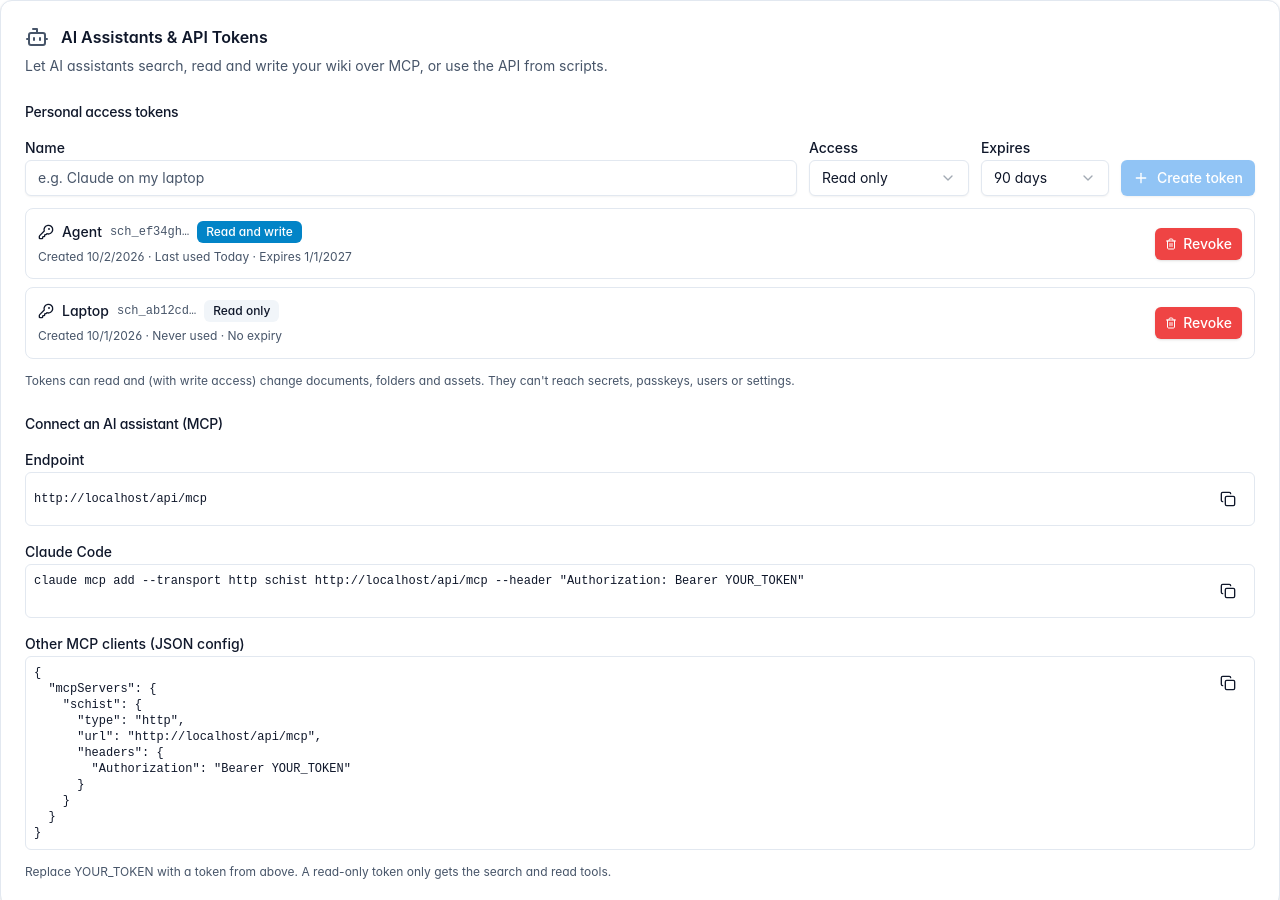
Scenario: ApiTokensSection › revokes a token after confirming
Expected: the number of list items with test id "api-token-row" is 2, [25,208,1255,279]; [25,287,1255,359]
Click the button with aria-label "Revoke Laptop".
click(1199, 323)  # box [1155,307,1242,339]
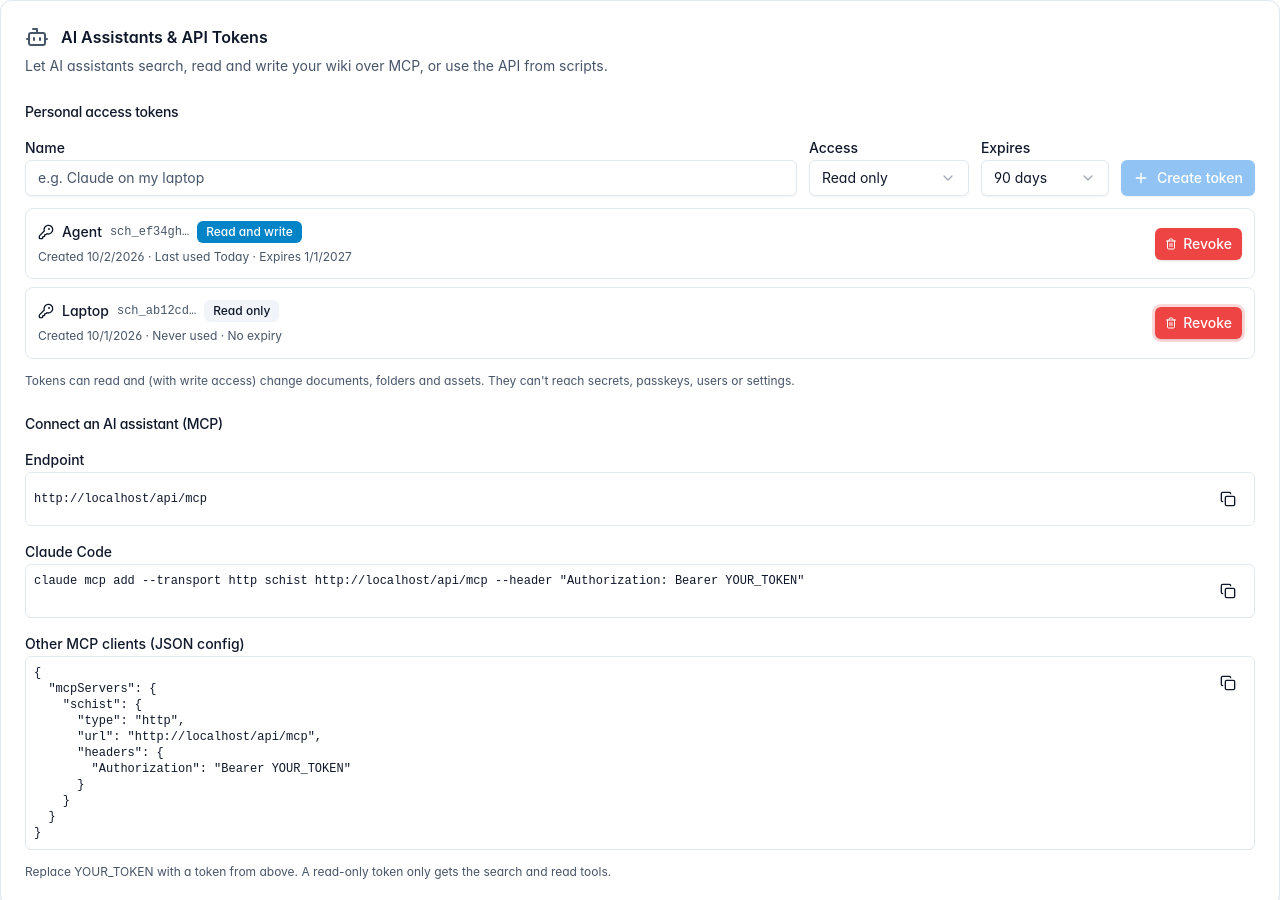
Click the button with aria-label "Revoke Laptop".
click(1199, 323)  # box [1155,307,1242,339]
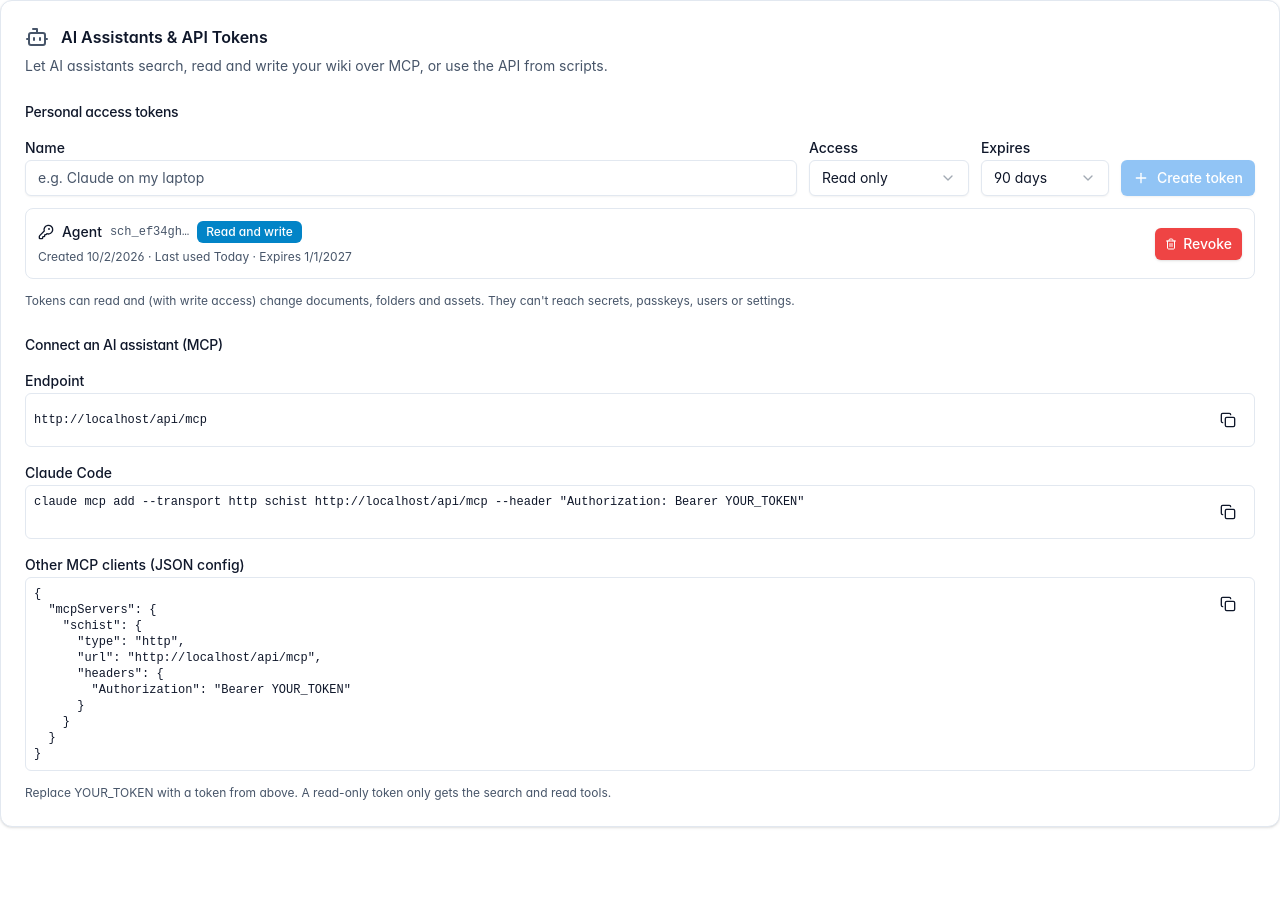
Expected: the list item with test id "api-token-row" shows "Agent", [62,223,102,240]
Result: the number of list items with test id "api-token-row" is 1 at [25,208,1255,279]
